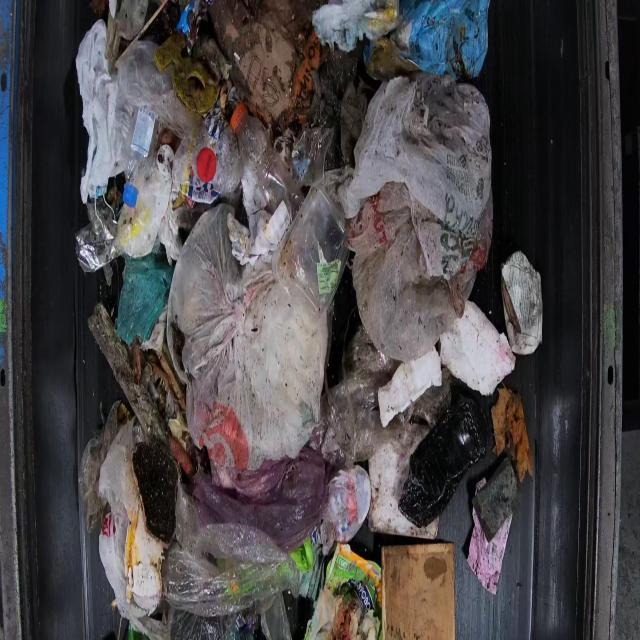E-waste: (73, 0, 543, 638)
cardboard: (379, 540, 456, 639)
